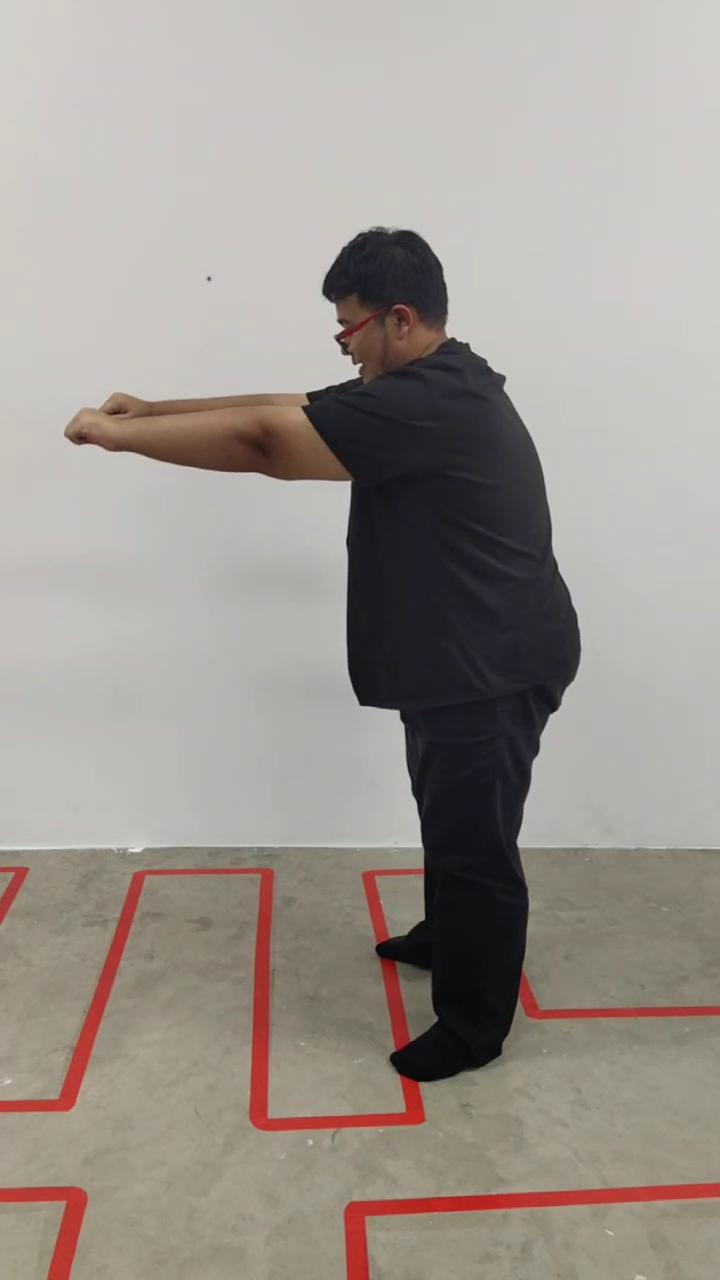squat up: (64, 226, 580, 1082)
